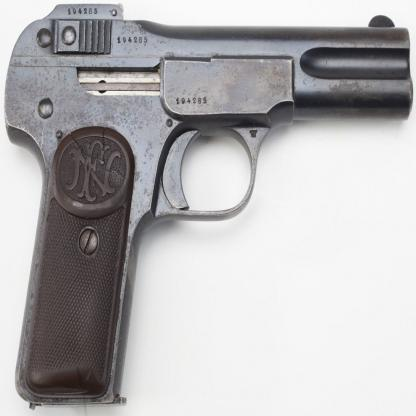gun: (3, 3, 416, 408)
